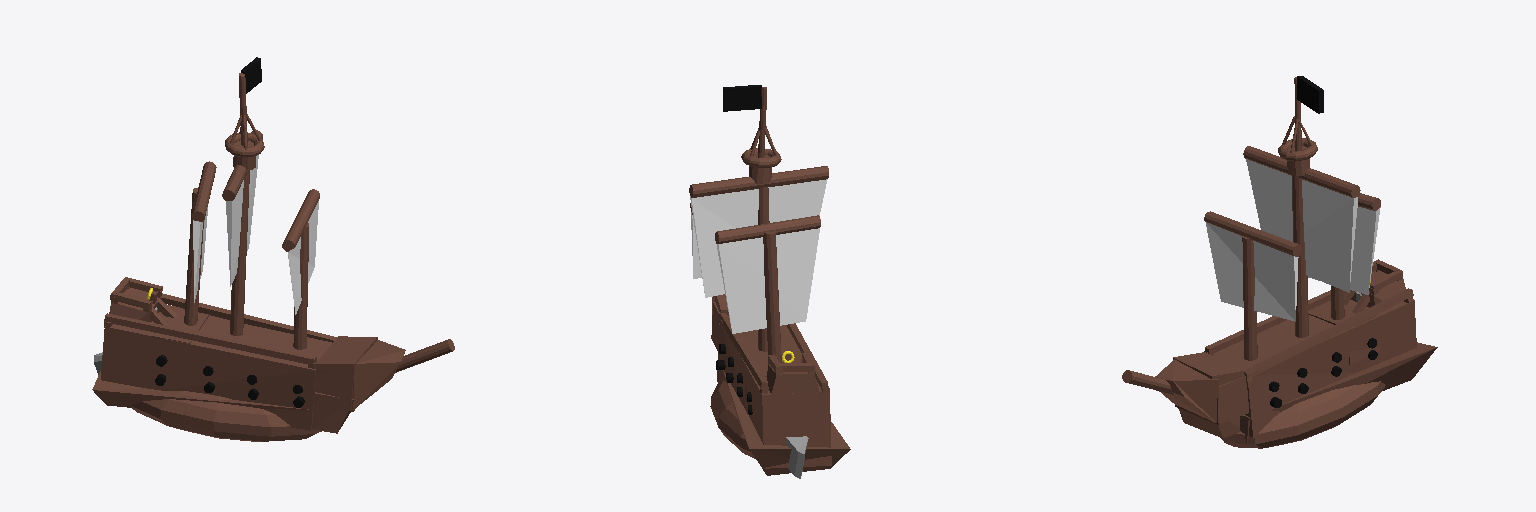
The model's file is ship.obj.
The picture shows the model from 3 angles: view 1: azimuth 30°, elevation 25°; view 2: azimuth 150°, elevation 25°; view 3: azimuth 270°, elevation 25°; orthographic projection.
Parts seen in each view (by area): view 1: group[number redacted]; view 2: group[number redacted]; view 3: group[number redacted].
Boxes of the visible parts, x1,y1,x2,y2 form: group[number redacted]: [92, 57, 454, 441]; group[number redacted]: [689, 85, 850, 478]; group[number redacted]: [1122, 76, 1437, 448].
Size of the model in its own units: 0.8401 by 1.16 by 0.9306.